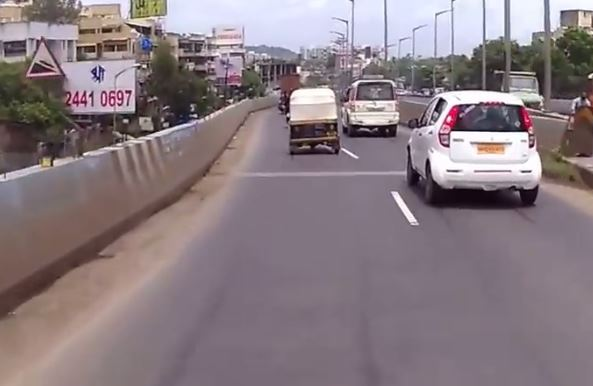autorickshaw: (281, 81, 346, 166)
car: (401, 87, 549, 221), (340, 76, 403, 139)
